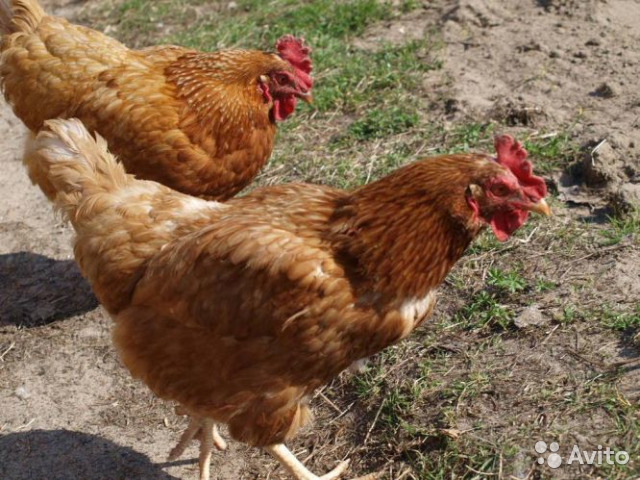chicken: (25, 114, 552, 480), (1, 1, 315, 225)
